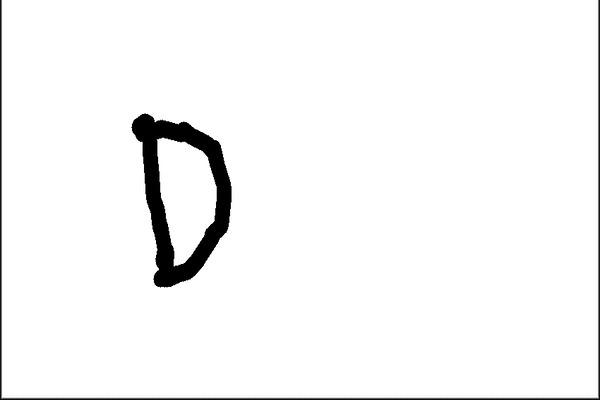D: (129, 104, 237, 289)
